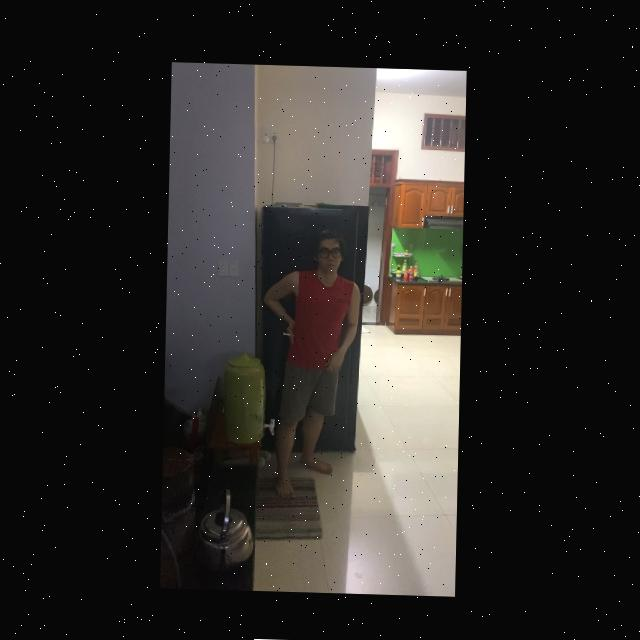cigarette: (284, 331, 295, 334)
